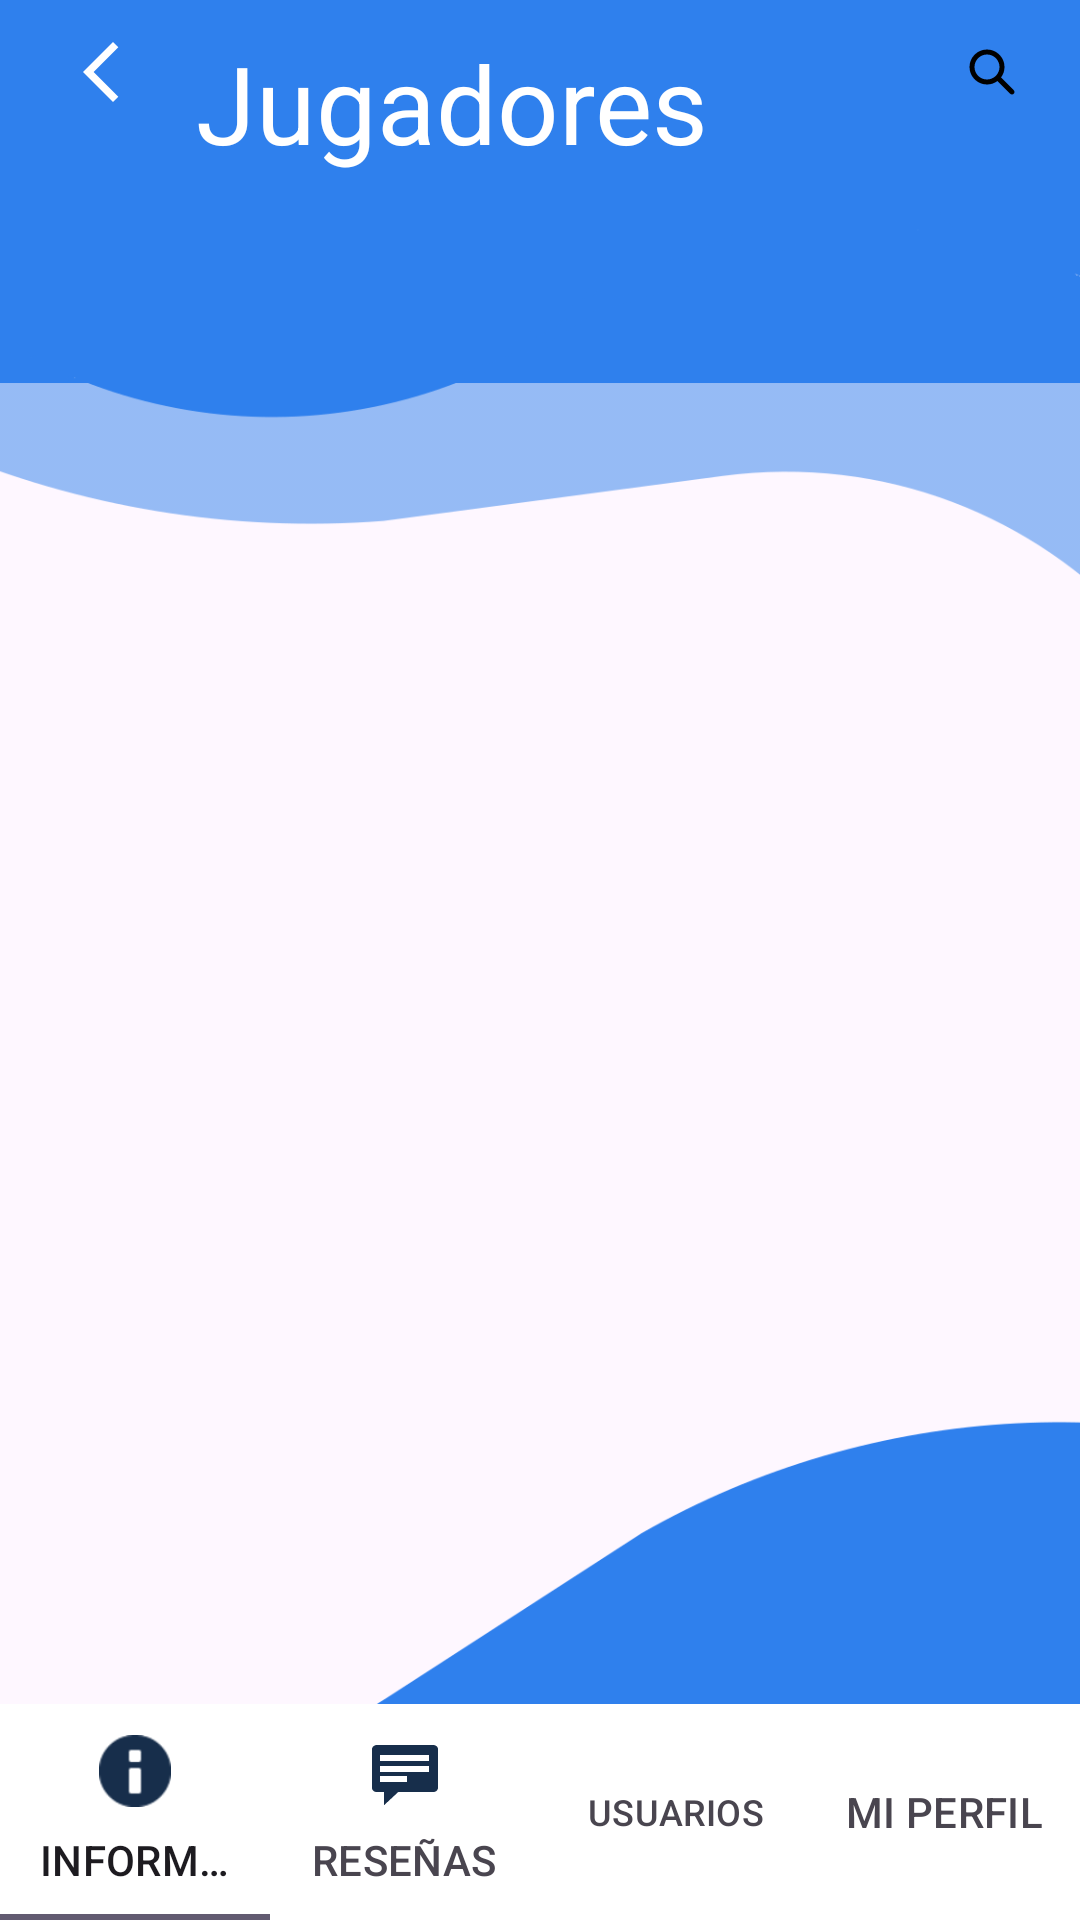

Where to tap for icons on this 1080×1920 app screen, as [x,y]:
Go back: [100,72]
